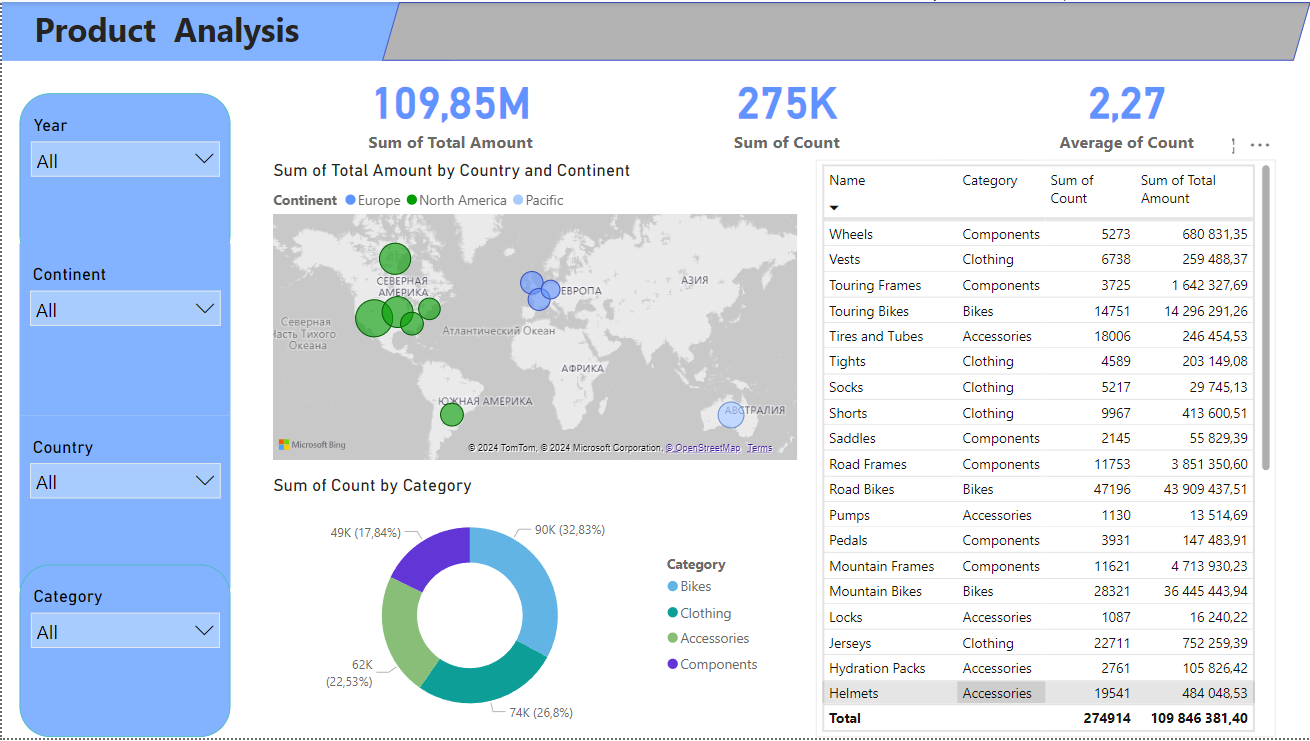

This screenshot's page, from the dashboard's own definition file:
{"tool":"powerbi","page":{"name":"Product Analysis","canvas":[1280,720],"ordinal":1},"visuals":[{"type":"tableEx","title":"Sales Amount Total by ProductSubcategory","fields":{"Values":["SalesProduct.SubCategoryName","SalesProduct.CategoryName","Sum(SalesProduct.OrderQty)","Sum(SalesProduct.Total)"]},"box":[796.1,154.1,450,564.9],"z":0},{"type":"card","fields":{"Values":["Sum(SalesProduct.LineTotal)"]},"box":[294.7,56.3,288.6,97.8],"z":1000},{"type":"card","fields":{"Values":["Sum(SalesProduct.OrderQty)"]},"box":[618.8,56.3,298.4,97.8],"z":2000},{"type":"card","fields":{"Values":["Avg(SalesProduct.Count)"]},"box":[997.8,56.3,205.4,97.8],"z":3000},{"type":"donutChart","fields":{"Category":["SalesProduct.CategoryName"],"Y":["Sum(SalesProduct.OrderQty)"]},"box":[260.5,462.2,492.8,256.8],"z":4000},{"type":"slicer","fields":{"Values":["SalesProduct.Year"]},"box":[17.1,89.3,206.7,168.8],"z":5000},{"type":"slicer","fields":{"Values":["SalesProduct.Continent"]},"box":[17.1,236,206.7,168.8],"z":6000},{"type":"slicer","fields":{"Values":["SalesProduct.Country"]},"box":[17.1,404.8,206.7,168.8],"z":7000},{"type":"slicer","fields":{"Values":["SalesProduct.CategoryName"]},"box":[17.1,550.3,206.7,168.8],"z":8000},{"type":"map","fields":{"Category":["SalesProduct.Country"],"Series":["SalesProduct.Continent"],"Size":["Sum(SalesProduct.LineTotal)"]},"box":[260.5,154.1,523.4,298.4],"z":9000},{"type":"textbox","box":[0,0,439,57.5],"z":10001},{"type":"shape","box":[371.4,0,908.6,57.5],"z":10002}]}

Visuals, with their boxes in screenshot pixels (x1, y1, x2, y2), scaled from the page's 1280x720 canvas onto the 1310x741 screenshot:
"Sales Amount Total by ProductSubcategory" tableEx: x1=815, y1=159, x2=1275, y2=740
card - Sum(SalesProduct.LineTotal): x1=302, y1=58, x2=597, y2=159
card - Sum(SalesProduct.OrderQty): x1=633, y1=58, x2=939, y2=159
card - Avg(SalesProduct.Count): x1=1021, y1=58, x2=1231, y2=159
donutChart - SalesProduct.CategoryName x Sum(SalesProduct.OrderQty): x1=267, y1=476, x2=771, y2=740
slicer - SalesProduct.Year: x1=18, y1=92, x2=229, y2=266
slicer - SalesProduct.Continent: x1=18, y1=243, x2=229, y2=417
slicer - SalesProduct.Country: x1=18, y1=417, x2=229, y2=590
slicer - SalesProduct.CategoryName: x1=18, y1=566, x2=229, y2=740
map - SalesProduct.Country x SalesProduct.Continent: x1=267, y1=159, x2=802, y2=466
textbox: x1=0, y1=0, x2=449, y2=59
shape: x1=380, y1=0, x2=1309, y2=59
